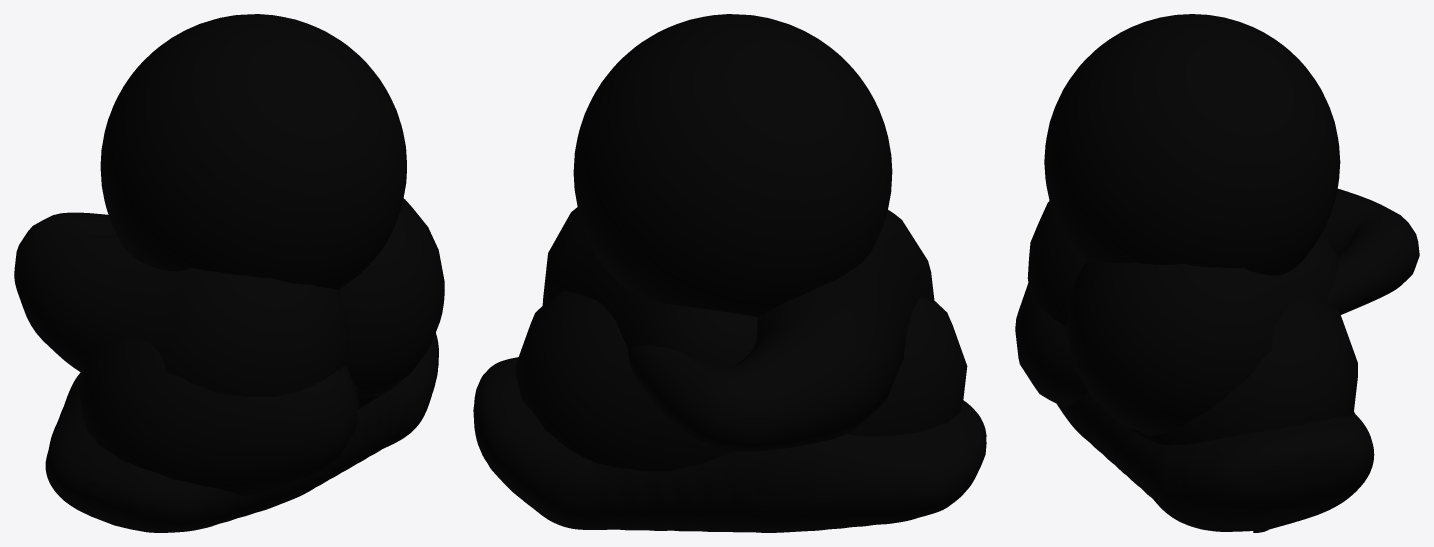
File: slime.glb
3 renders of one model, left to right at view 1: azimuth 30°, elevation 25°; view 2: azimuth 150°, elevation 25°; view 3: azimuth 270°, elevation 25°, orthographic. The views are drawn at different scales.
Parts seen in each view (by area): view 1: node_id49_5; view 2: node_id49_5; view 3: node_id49_5.
Boxes of the visible parts, box(x1,y1,x2,y2) form: node_id49_5: box(14, 14, 444, 532); node_id49_5: box(473, 14, 986, 532); node_id49_5: box(1015, 14, 1419, 532).
Size of the model in its own units: 0.4768 by 0.5203 by 0.4138.
4 materials, 4 textured.
